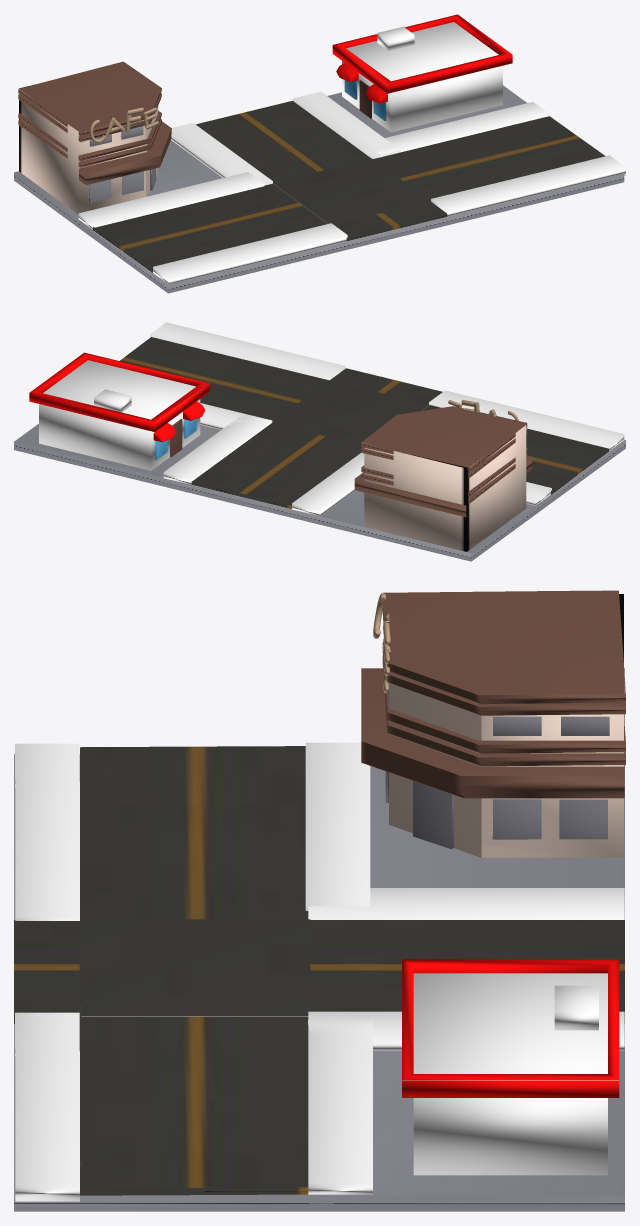
The picture shows the model from 3 angles, top to bottom: view 1: azimuth 30°, elevation 25°; view 2: azimuth 150°, elevation 25°; view 3: azimuth 270°, elevation 25°; orthographic projection. The views are drawn at different scales.
Parts seen in each view (by area): view 1: Road, Crossroad, Box, Buil1, Floor, Buil2, Center, Top, Box_1, Sign, Air, Quad_Sphere (+1 smaller); view 2: Road, Crossroad, Buil2, Buil1, Box, Floor, Center, Top, Air, Quad_Sphere, Win, Door; view 3: Road, Crossroad, Box, Buil1, Floor, Center, Box_1, Top, Buil2, Air, Sign.
Part boxes in pixels (x1=…): Road: x1=93, y1=101, x2=605, y2=272; Crossroad: x1=78, y1=91, x2=625, y2=284; Box: x1=18, y1=61, x2=171, y2=185; Buil1: x1=342, y1=22, x2=502, y2=132; Floor: x1=14, y1=85, x2=624, y2=293; Buil2: x1=19, y1=86, x2=145, y2=214; Center: x1=273, y1=158, x2=429, y2=224; Top: x1=332, y1=14, x2=512, y2=93; Box_1: x1=88, y1=106, x2=158, y2=202; Sign: x1=89, y1=107, x2=158, y2=143; Air: x1=377, y1=26, x2=414, y2=50; Quad_Sphere: x1=336, y1=62, x2=387, y2=103; Road: x1=120, y1=337, x2=608, y2=509; Crossroad: x1=150, y1=322, x2=624, y2=516; Buil2: x1=364, y1=425, x2=526, y2=551; Buil1: x1=39, y1=360, x2=200, y2=470; Box: x1=354, y1=406, x2=532, y2=517; Floor: x1=14, y1=424, x2=625, y2=561; Center: x1=272, y1=380, x2=429, y2=444; Top: x1=29, y1=352, x2=209, y2=431; Air: x1=94, y1=389, x2=131, y2=412; Quad_Sphere: x1=153, y1=401, x2=205, y2=442; Win: x1=155, y1=419, x2=196, y2=459; Door: x1=170, y1=419, x2=182, y2=457; Road: x1=14, y1=746, x2=624, y2=1195; Crossroad: x1=15, y1=742, x2=624, y2=1201; Box: x1=361, y1=590, x2=625, y2=798; Buil1: x1=413, y1=973, x2=607, y2=1175; Floor: x1=14, y1=754, x2=624, y2=1211; Center: x1=81, y1=919, x2=310, y2=1016; Box_1: x1=385, y1=683, x2=609, y2=857; Top: x1=402, y1=959, x2=619, y2=1097; Buil2: x1=481, y1=594, x2=623, y2=857; Air: x1=554, y1=985, x2=598, y2=1030; Sign: x1=373, y1=593, x2=390, y2=692.
Bounding box in the file's own units: 16.94 × 3.56 × 9.87.
17 materials, 14 textured.
